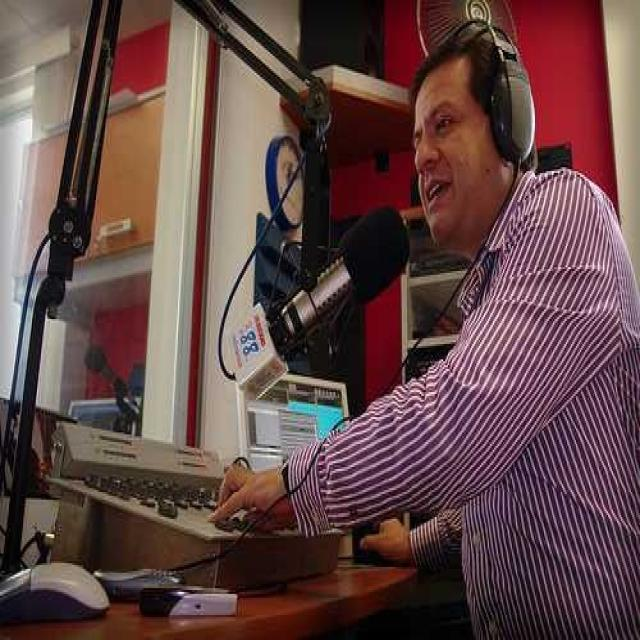microphone: (267, 205, 412, 364)
